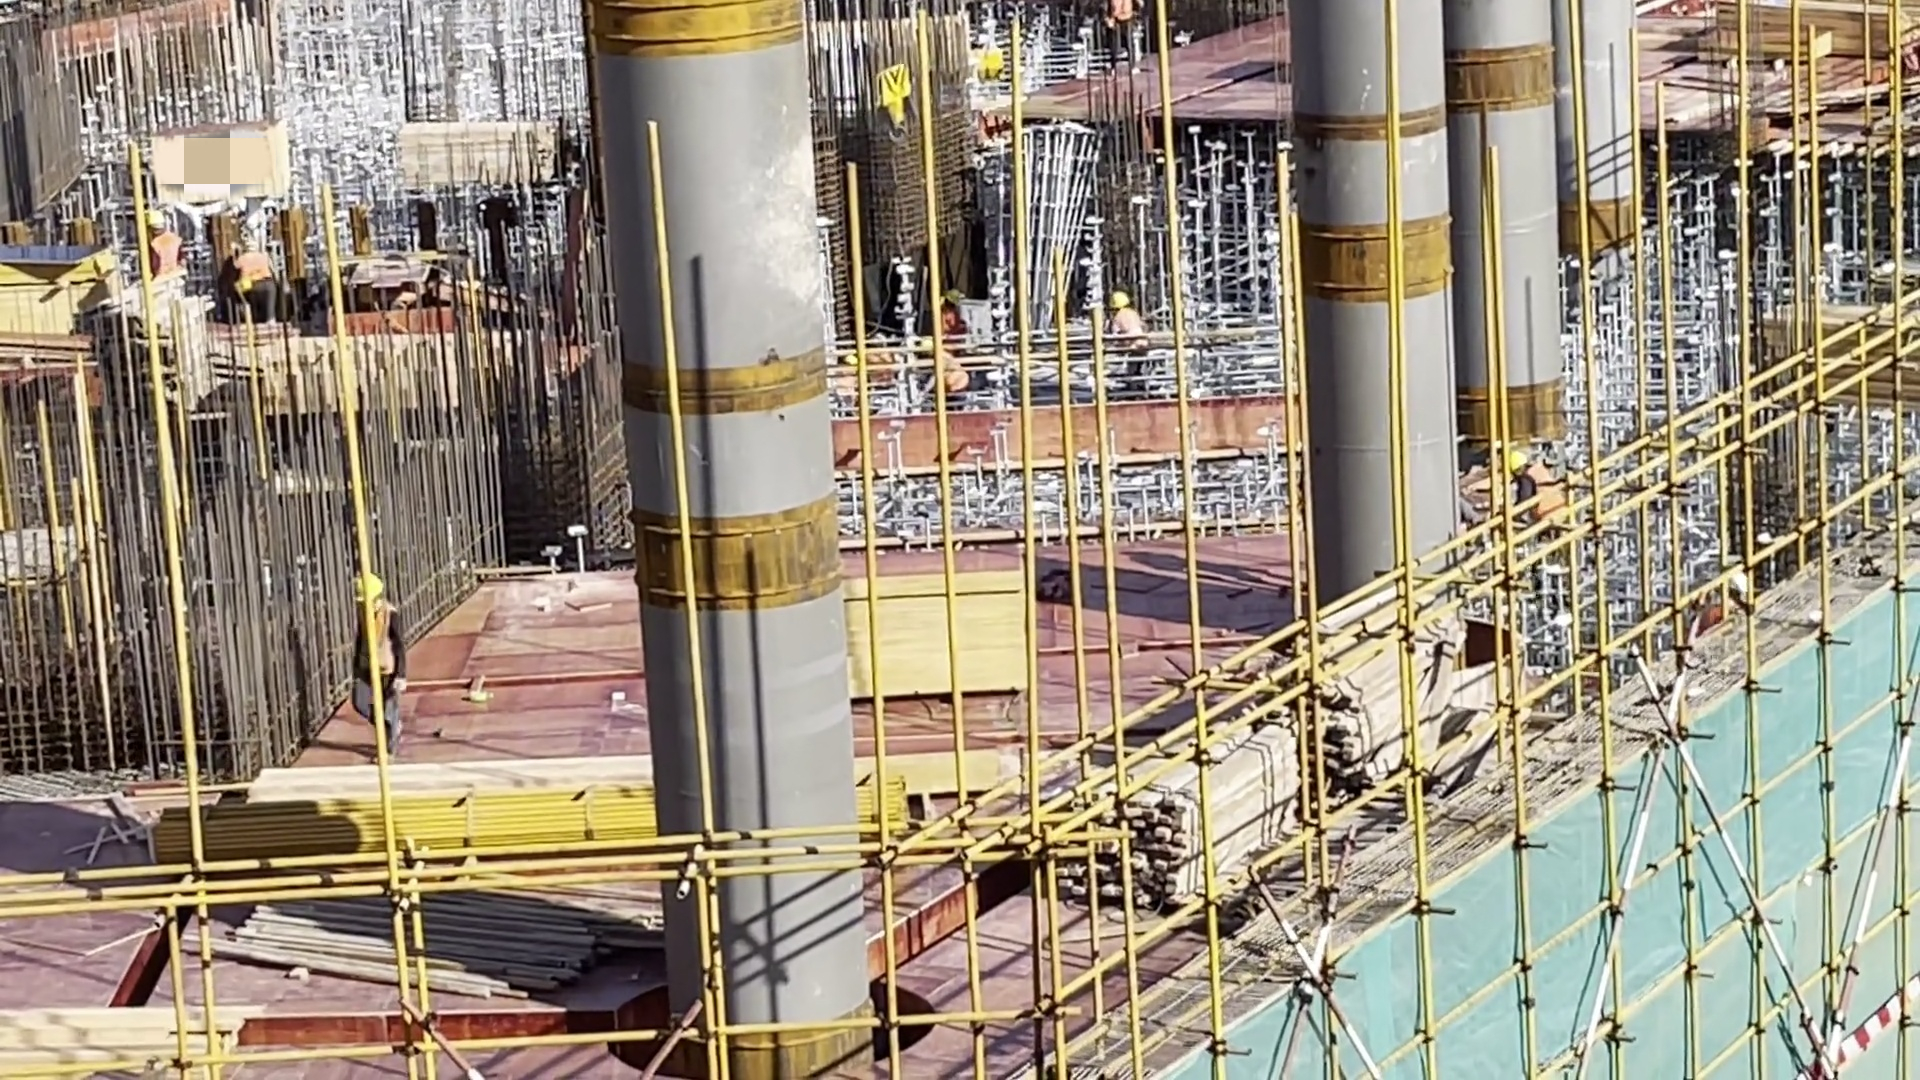helmet: (934, 285, 967, 320), (144, 205, 171, 246), (1103, 284, 1130, 310)
hook: (868, 61, 931, 135)
person: (340, 575, 415, 765), (1096, 293, 1157, 389), (1506, 448, 1582, 521), (1104, 1, 1154, 83), (135, 211, 188, 285), (229, 247, 280, 320), (919, 338, 976, 402)
vest: (230, 245, 268, 290), (1109, 314, 1148, 353)
wood: (1024, 678, 1299, 933), (225, 846, 640, 1012), (1245, 590, 1503, 794)
